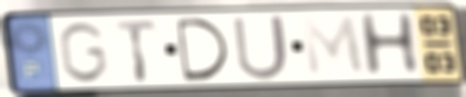D: (172, 17, 234, 83)
G: (55, 20, 111, 85)
H: (355, 10, 424, 80)
M: (298, 13, 369, 79)
T: (112, 18, 161, 85)
U: (229, 13, 292, 83)
